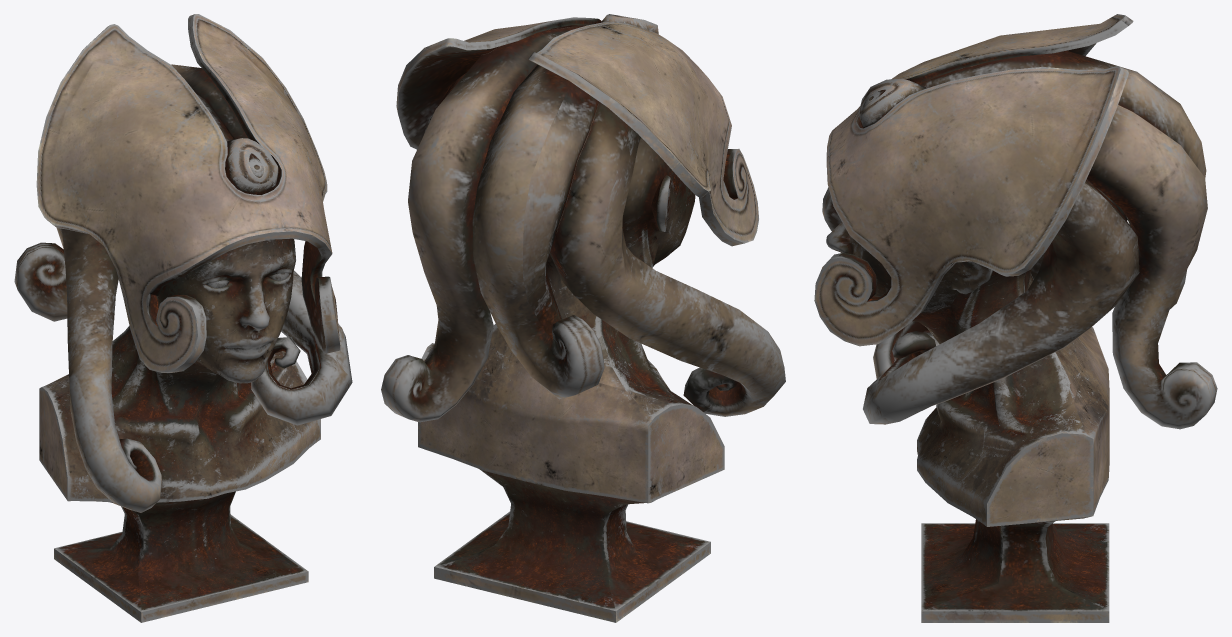
File: Goddes_Buste_A_LP_LOD0.FBX
The picture shows the model from 3 angles, left to right: view 1: azimuth 30°, elevation 25°; view 2: azimuth 150°, elevation 25°; view 3: azimuth 270°, elevation 25°; orthographic projection. The views are drawn at different scales.
Parts seen in each view (by area): view 1: Goddes_Buste_A_LP_LOD0; view 2: Goddes_Buste_A_LP_LOD0; view 3: Goddes_Buste_A_LP_LOD0.
Part boxes in pixels (x1,y1,x2,y2): Goddes_Buste_A_LP_LOD0: (14,14,352,622); Goddes_Buste_A_LP_LOD0: (381,14,785,622); Goddes_Buste_A_LP_LOD0: (814,14,1217,622).
Size of what is drawn, in the model's own units: 59.05 by 99.35 by 65.58.
